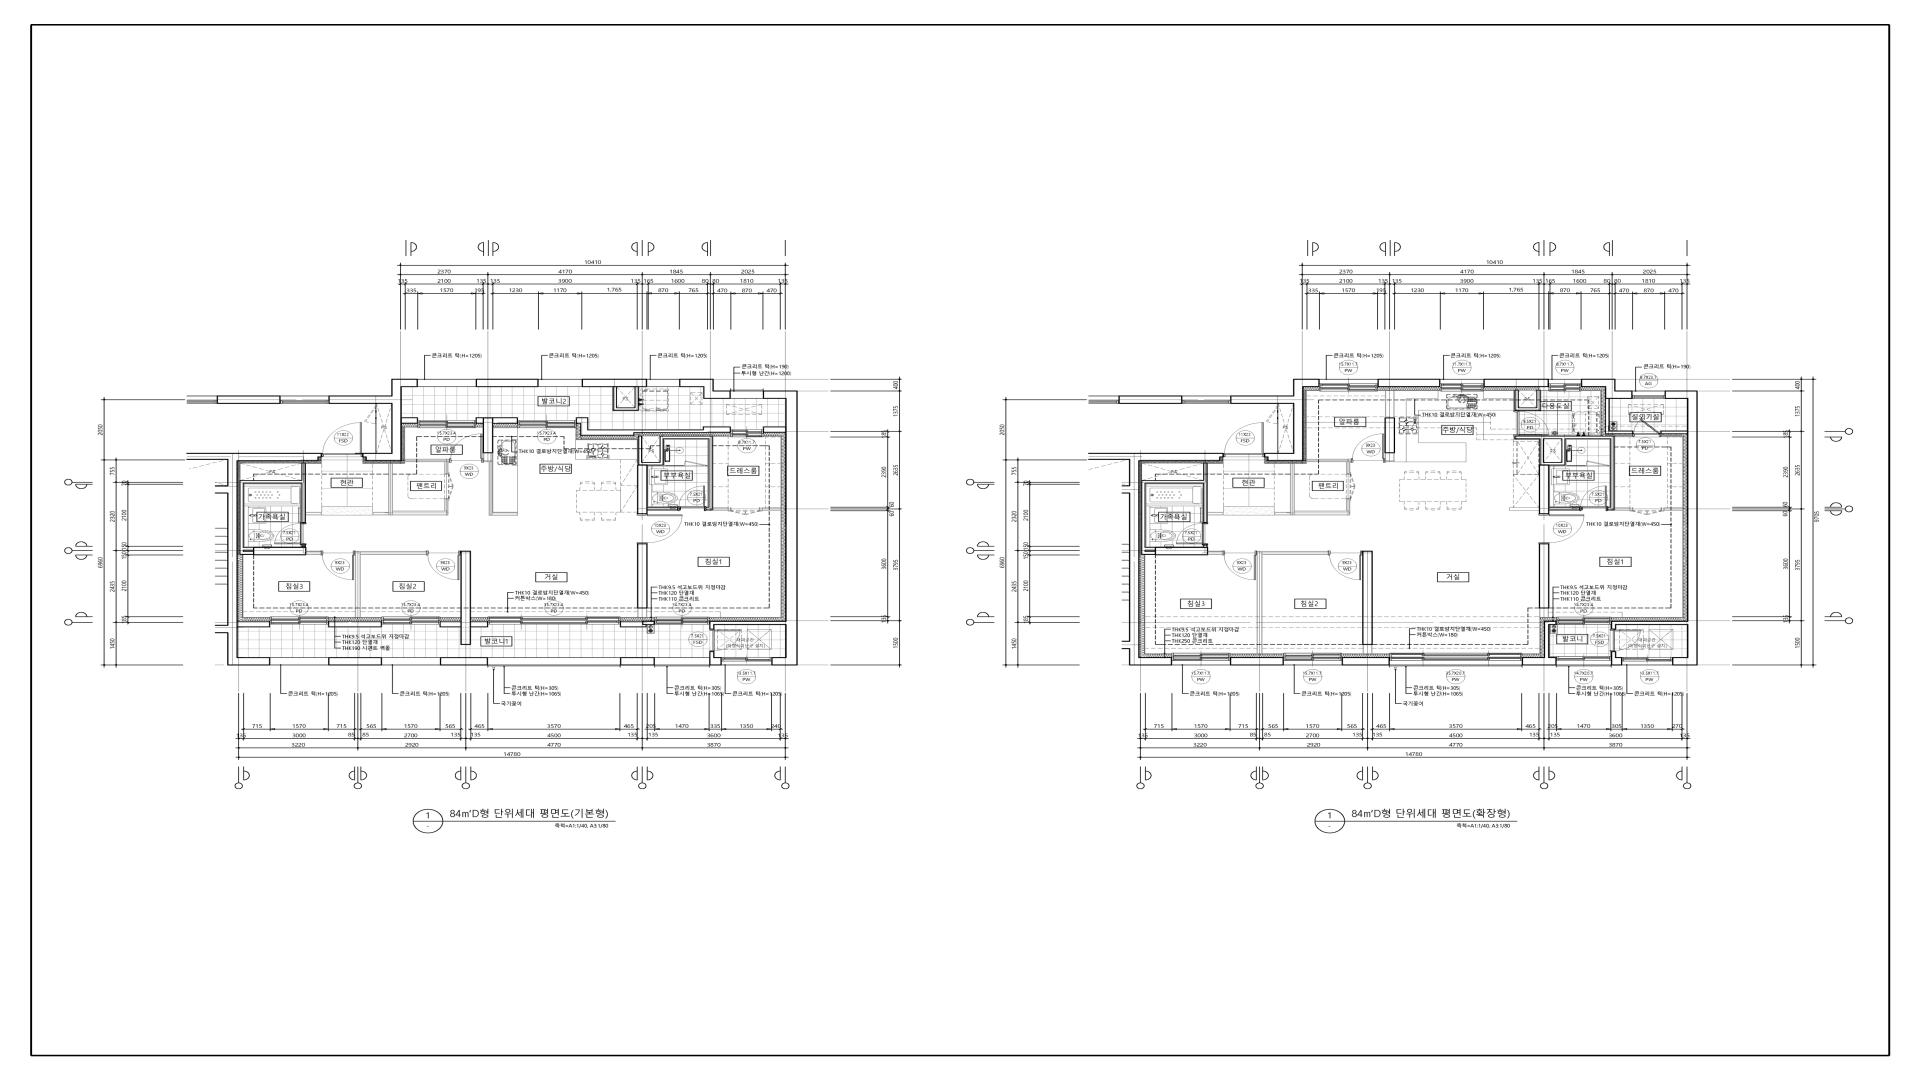door: (637, 513, 683, 545), (1539, 513, 1585, 545), (322, 422, 363, 458), (1224, 422, 1265, 458), (450, 434, 483, 463), (322, 551, 355, 580), (427, 551, 460, 580), (1329, 551, 1362, 580), (1352, 434, 1385, 463), (1224, 551, 1257, 580), (1514, 411, 1549, 436), (678, 485, 705, 512), (1580, 485, 1607, 512), (709, 629, 741, 651), (274, 522, 306, 545), (1611, 629, 1643, 651), (1176, 522, 1208, 545), (1633, 419, 1662, 436), (729, 508, 762, 516), (1631, 508, 1664, 516), (444, 473, 454, 498), (1346, 473, 1356, 498), (364, 406, 377, 423), (684, 460, 707, 467), (1586, 460, 1609, 467)
wall: (1611, 390, 1700, 666), (709, 390, 798, 666), (1129, 452, 1224, 666), (227, 452, 322, 666), (1515, 435, 1631, 513), (1141, 463, 1224, 555), (240, 463, 322, 555), (1257, 551, 1329, 654), (1230, 378, 1320, 462), (328, 378, 418, 462), (637, 436, 729, 513), (355, 551, 427, 617), (440, 551, 488, 645), (476, 417, 518, 516), (1274, 464, 1350, 516), (372, 464, 448, 516), (576, 418, 731, 436), (1522, 621, 1557, 666), (679, 378, 731, 400), (1362, 551, 1373, 654), (1581, 378, 1633, 400), (1605, 398, 1633, 434), (1539, 545, 1549, 617), (637, 545, 647, 617), (1385, 390, 1395, 462), (253, 545, 322, 555), (1155, 545, 1224, 555), (1307, 459, 1352, 473), (405, 459, 450, 473), (582, 378, 647, 388), (1484, 378, 1548, 388), (1514, 390, 1542, 411), (1378, 378, 1440, 388), (476, 378, 538, 388), (216, 396, 281, 404), (1118, 396, 1182, 404), (328, 657, 382, 666), (1230, 657, 1283, 666), (1342, 657, 1390, 666), (440, 657, 488, 666), (328, 621, 382, 628), (620, 657, 655, 666), (620, 621, 655, 628), (237, 621, 270, 628), (1611, 651, 1623, 666), (709, 651, 721, 666), (764, 426, 786, 433), (1660, 430, 1687, 434), (402, 417, 418, 423), (1544, 435, 1561, 439), (1664, 508, 1683, 510), (762, 508, 781, 510), (376, 423, 377, 454), (376, 404, 377, 406)
window: (1390, 653, 1522, 667), (488, 658, 620, 667), (488, 617, 620, 625), (1283, 653, 1342, 666), (1320, 378, 1378, 392), (1172, 653, 1230, 666), (1440, 378, 1484, 392), (1557, 657, 1611, 667), (655, 658, 709, 667), (381, 617, 440, 625), (721, 657, 771, 666), (1623, 657, 1673, 666), (418, 378, 476, 386), (418, 421, 476, 429), (518, 421, 576, 429), (270, 658, 328, 666), (270, 617, 328, 625), (382, 658, 440, 666), (1556, 617, 1611, 625), (1548, 378, 1581, 392), (655, 617, 709, 625), (1182, 396, 1230, 404), (281, 396, 328, 404), (538, 378, 582, 386), (731, 389, 764, 398), (1633, 390, 1665, 398), (647, 378, 679, 386), (1088, 396, 1118, 404), (187, 396, 216, 404), (731, 430, 764, 436)
